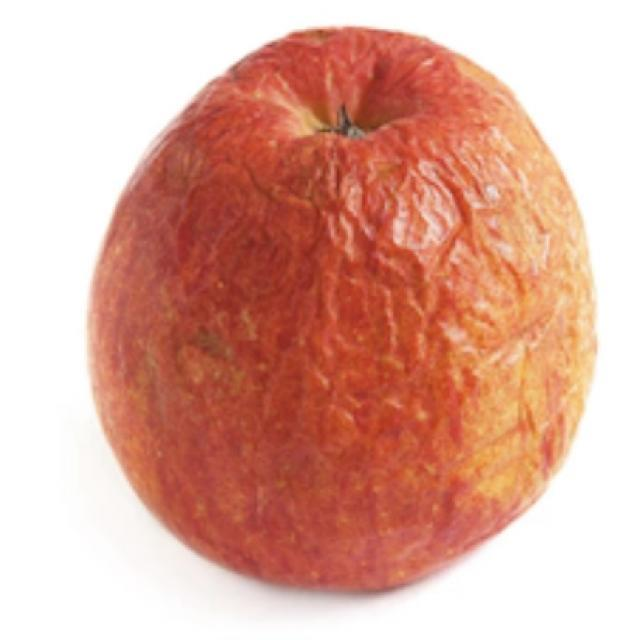Rotten: (89, 42, 604, 555)
